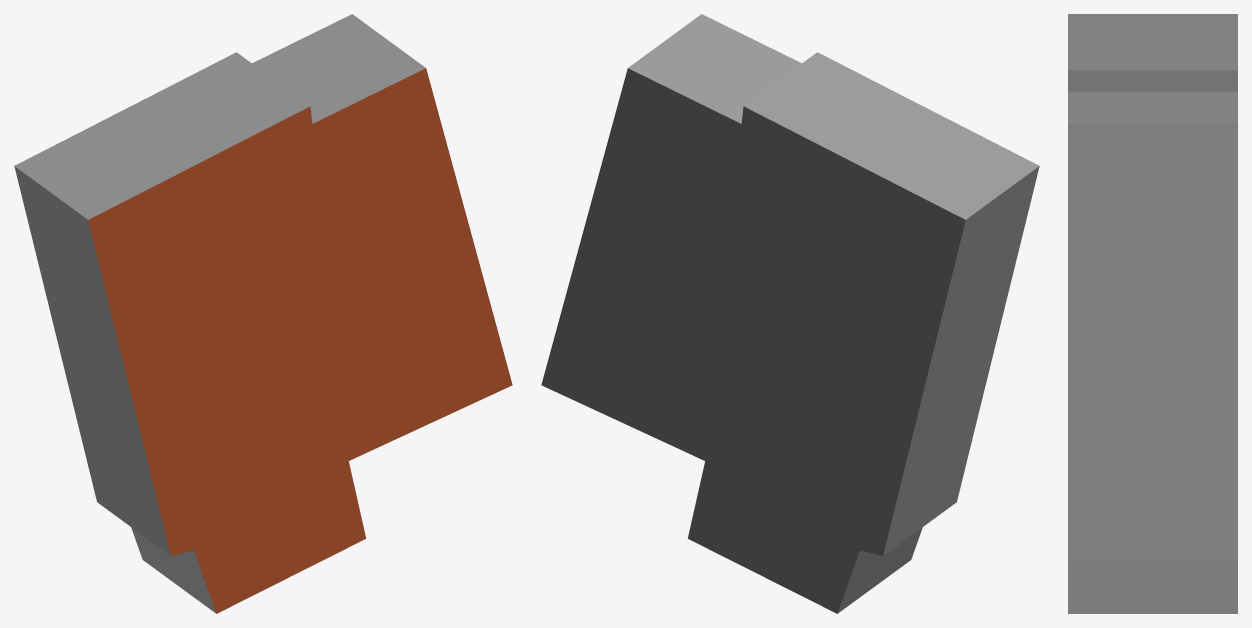
Rendered from construction_2532_assumed_A_Casa_h6m.obj.
3 views of the same model, side by side, from view 1: azimuth 30°, elevation 25°; view 2: azimuth 150°, elevation 25°; view 3: azimuth 270°, elevation 25° (orthographic). The views are drawn at different scales.
Parts seen in each view (by area): view 1: construction_2532_assumed_A_Casa; view 2: construction_2532_assumed_A_Casa; view 3: construction_2532_assumed_A_Casa.
Boxes of the visible parts, bbox=[...] form: construction_2532_assumed_A_Casa: bbox=[14, 14, 512, 613]; construction_2532_assumed_A_Casa: bbox=[541, 14, 1039, 613]; construction_2532_assumed_A_Casa: bbox=[1068, 14, 1237, 613].
Size of the model in its own units: 19.9 by 22.16 by 6.
